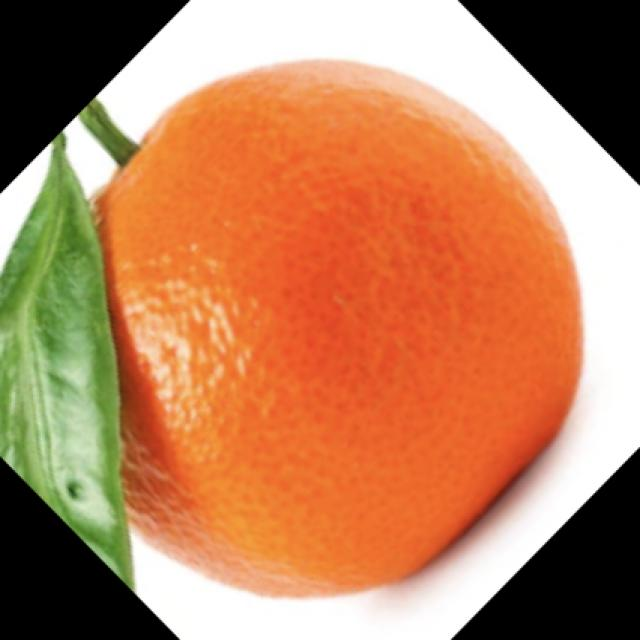fresh: (0, 52, 590, 615)
